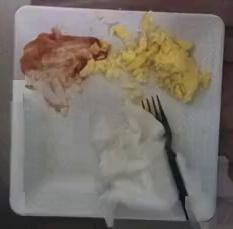scrambled_eggs: (88, 11, 209, 101)
